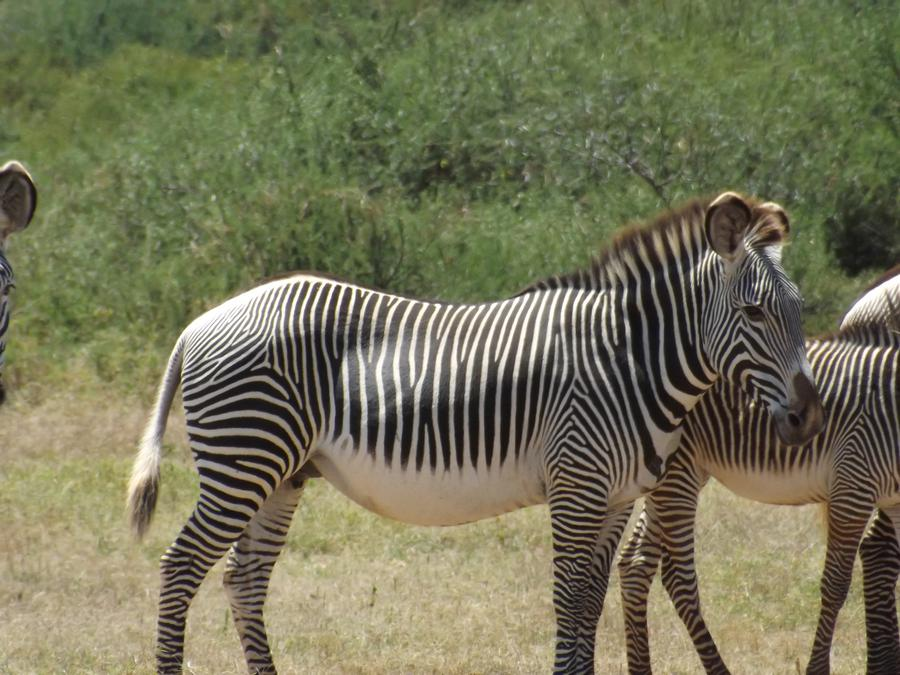zebra_grevys: (166, 256, 646, 502)
